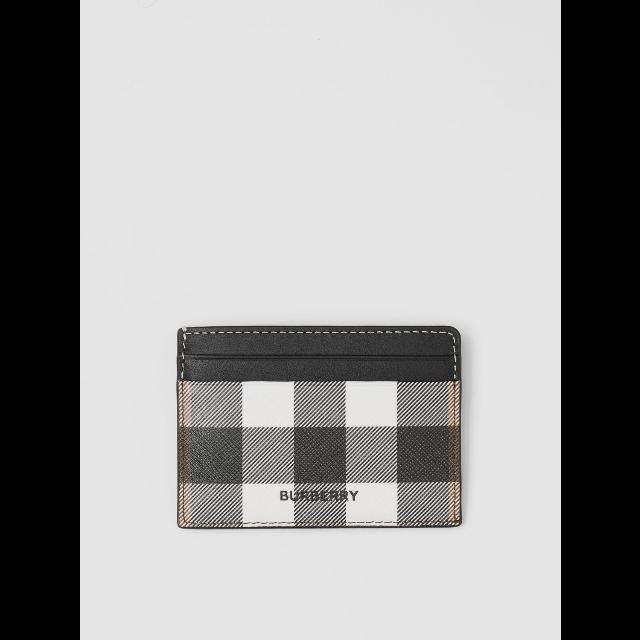wallet: (172, 320, 466, 530)
